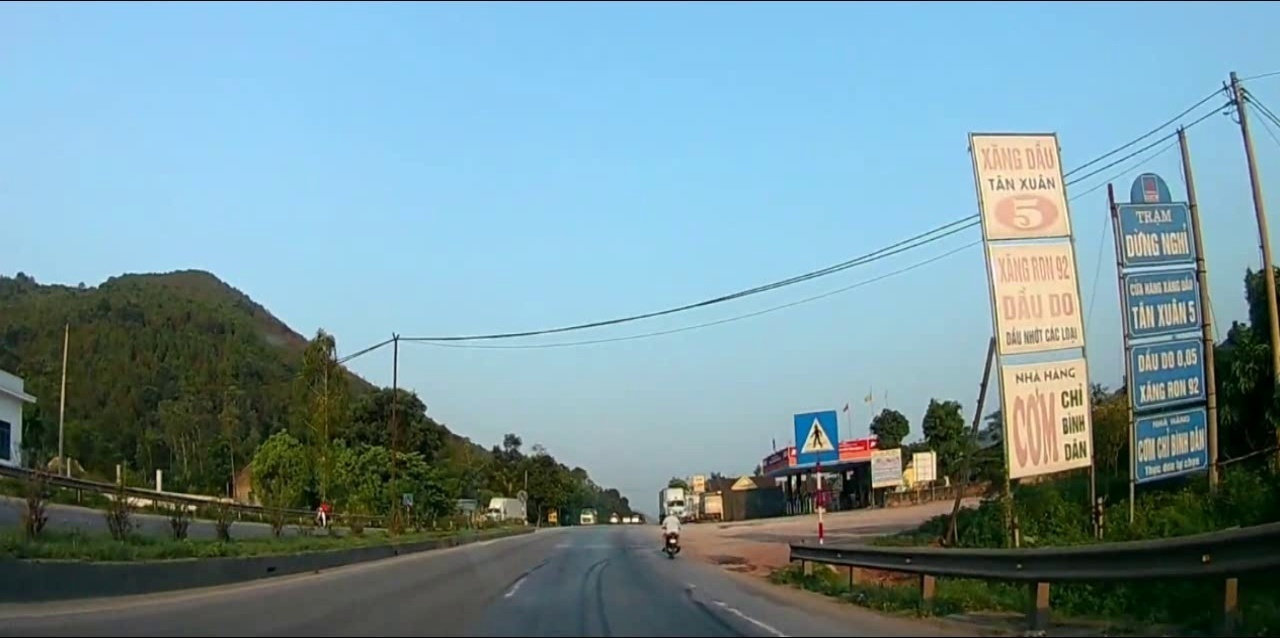Nguoi di bo: (794, 407, 839, 464)
